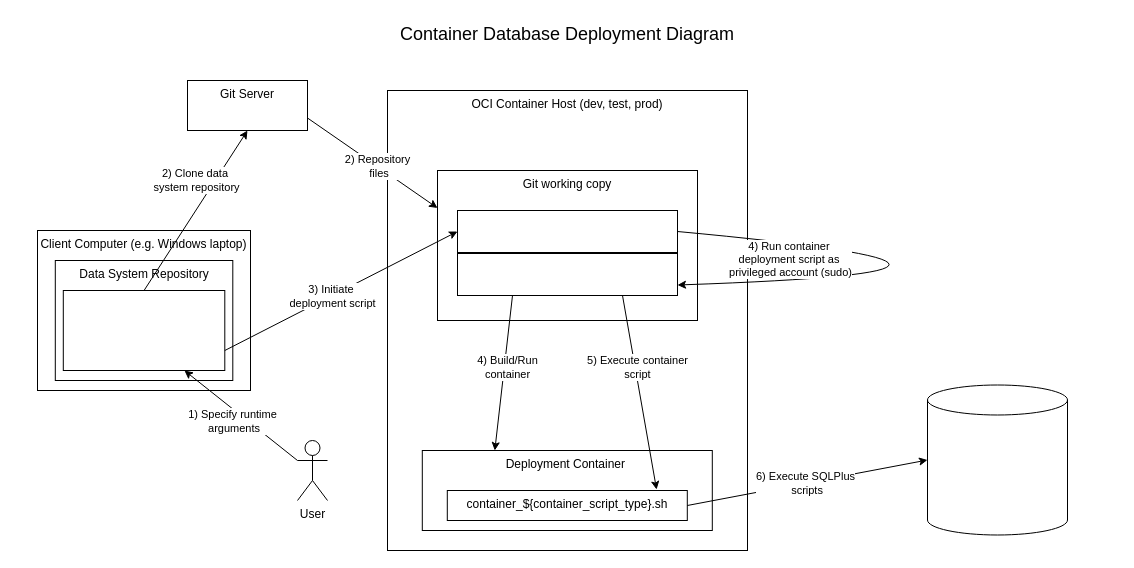
The diagram is 1134 pixels wide and 568 high, and some of its shapes have lost their labels. Here are the shapes that lost their labels. From the top down, the centre of each, then its label:
pixel 567 231: host_deploy_database.sh
pixel 567 274: host_deploy_database_elev_privs.sh
pixel 143 330: client_deploy_database.sh
pixel 997 459: OCI ${env_name} DB
